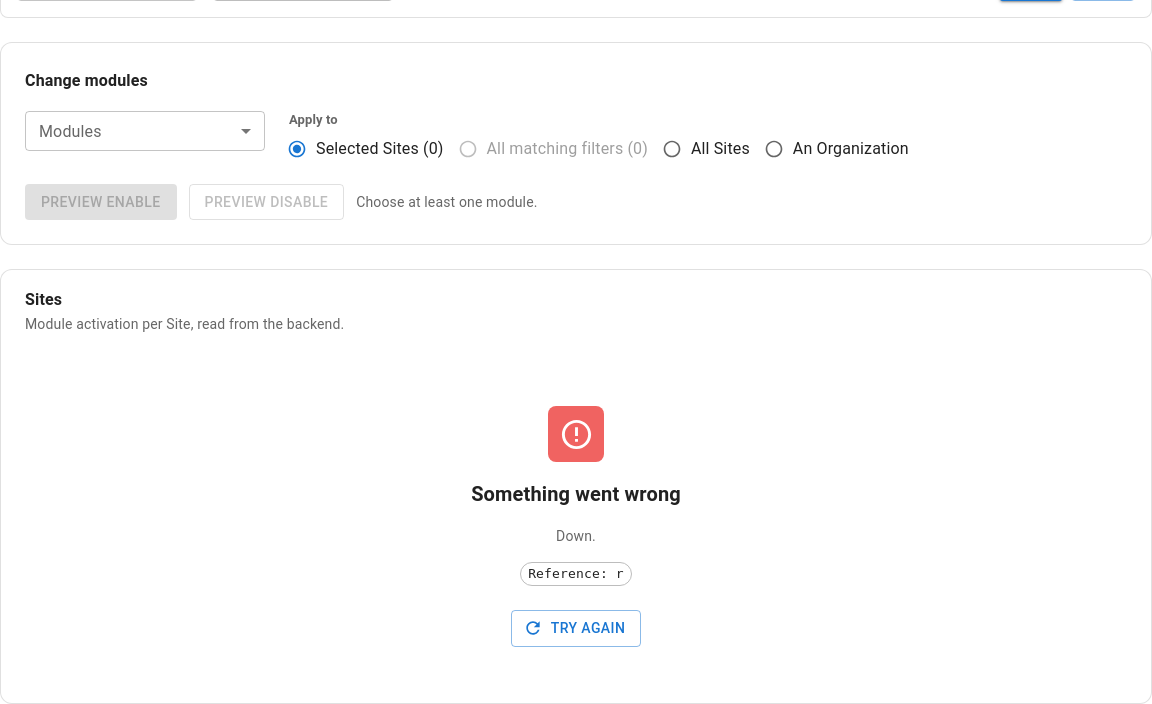
Scenario: SiteModuleManagement › shows a failed Site read with a retry
(page scrolled)
Check: the text "Down." is shown, box [556, 526, 596, 546]
What coordinates should you click on to do the following:
click the button "Try again"
I would click on:
 (576, 628)
Its box is [511, 610, 641, 647].
(page scrolled)
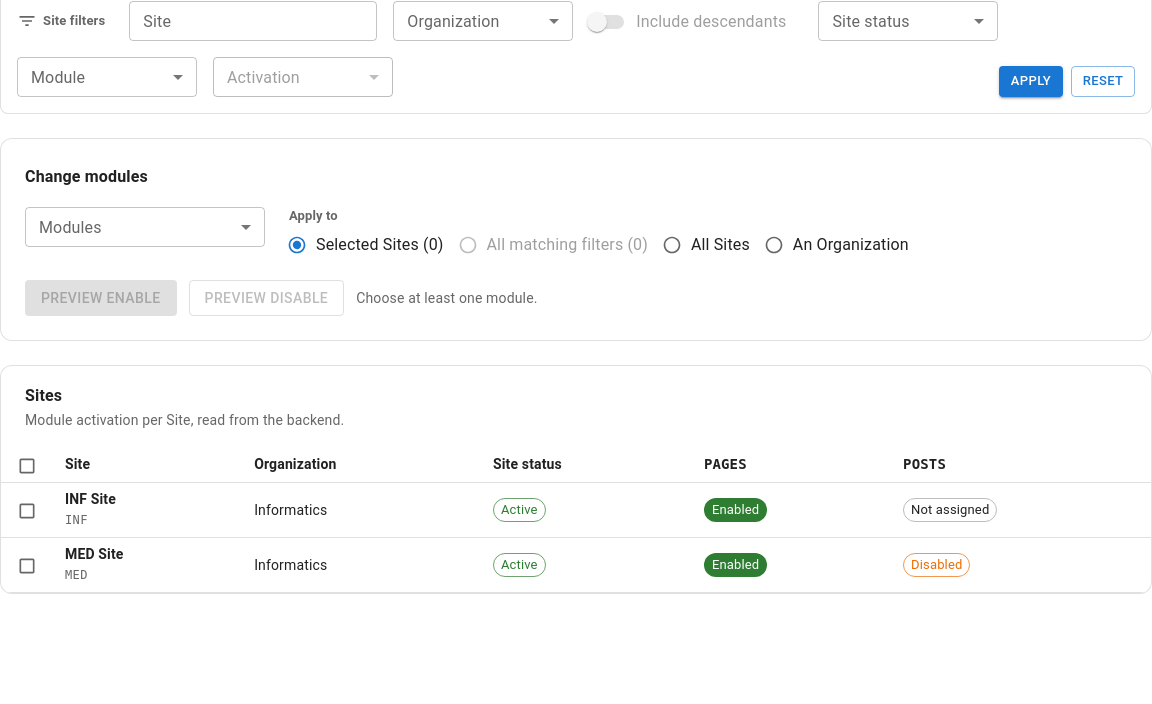
Check: the text "INF Site" is shown, box [65, 491, 116, 507]
